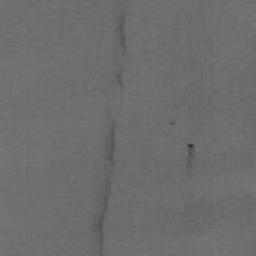Inclusion: (91, 115, 119, 256), (113, 9, 129, 92), (183, 143, 196, 170), (168, 120, 177, 127)
